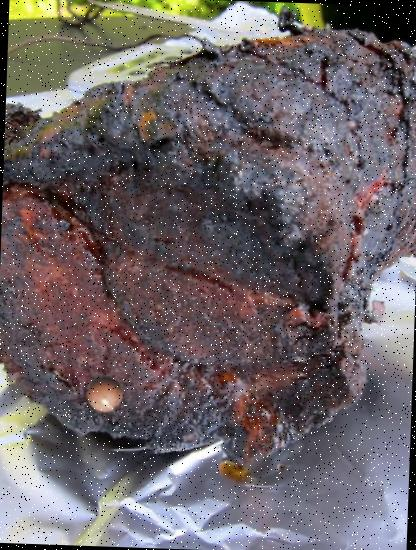Granadilla: (82, 372, 136, 426)
